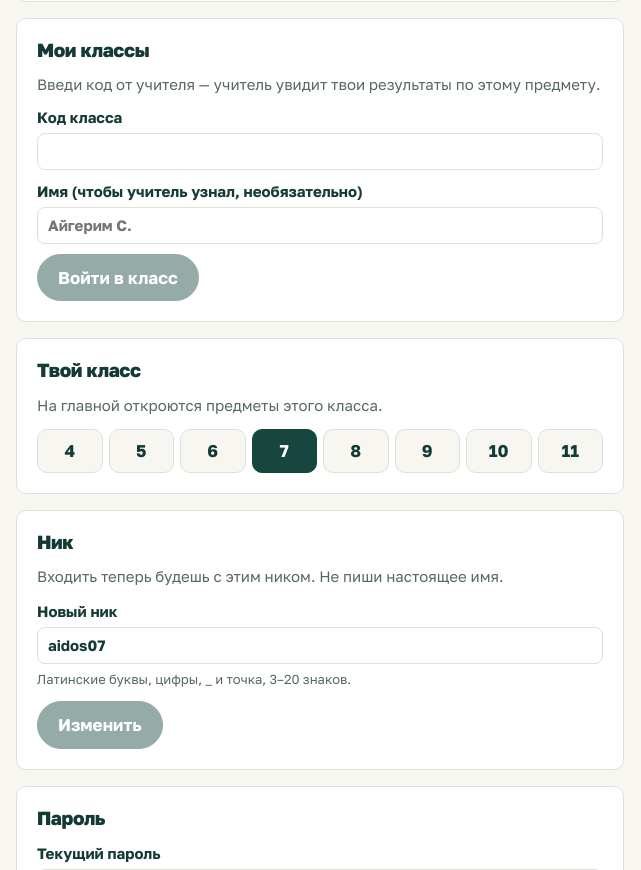
Test: кабинет ученика /me › класс: нажал — сохранено, и на главной откроется этот класс
(page scrolled)
Click the button "9": [427, 451] box [394, 429, 460, 473]
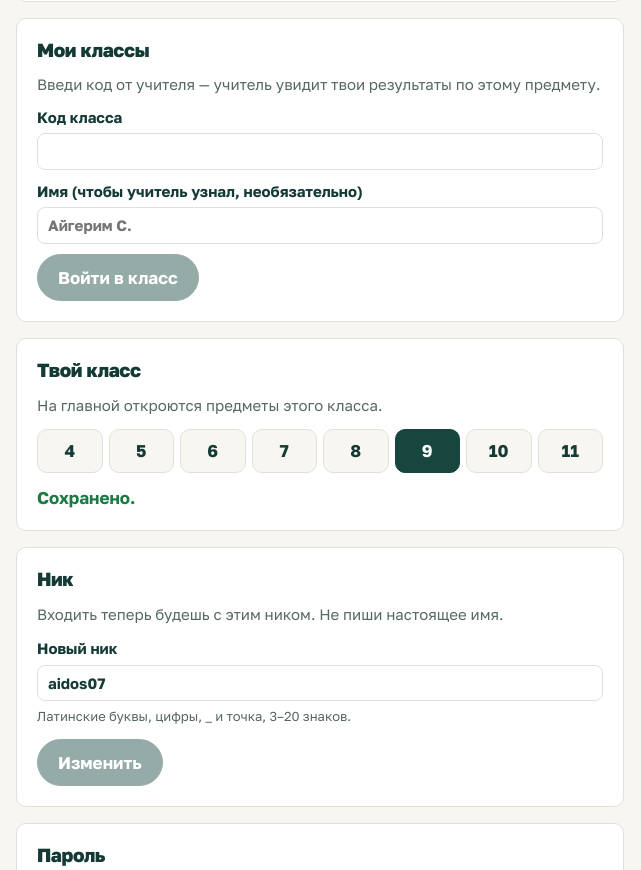
Check: the message "Сохранено." is shown, box [37, 487, 136, 508]
